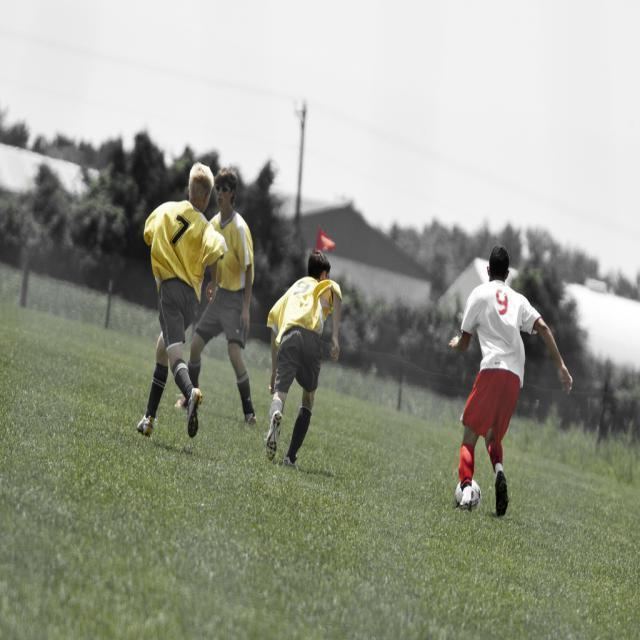football: (435, 469, 496, 512)
